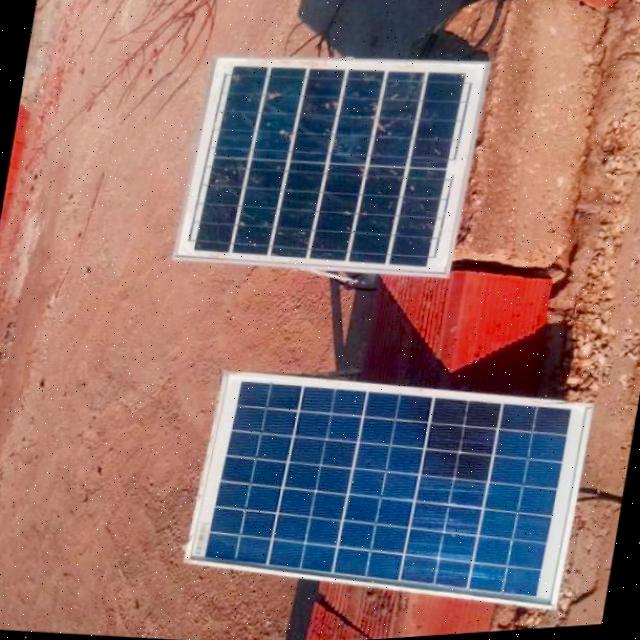Normal Solar Panel: (182, 352, 598, 638)
